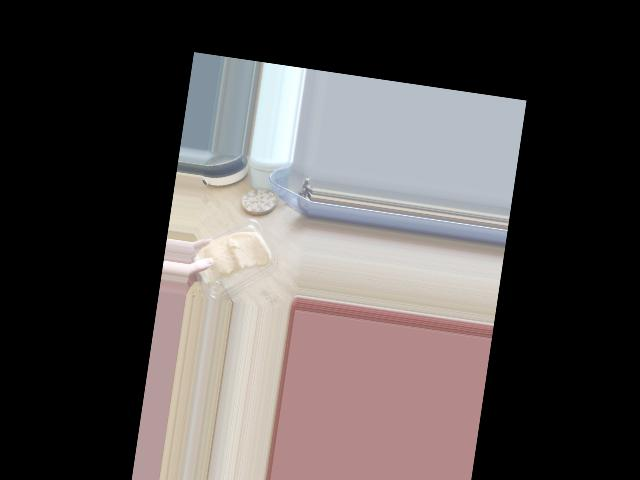cheese: (192, 204, 294, 307)
